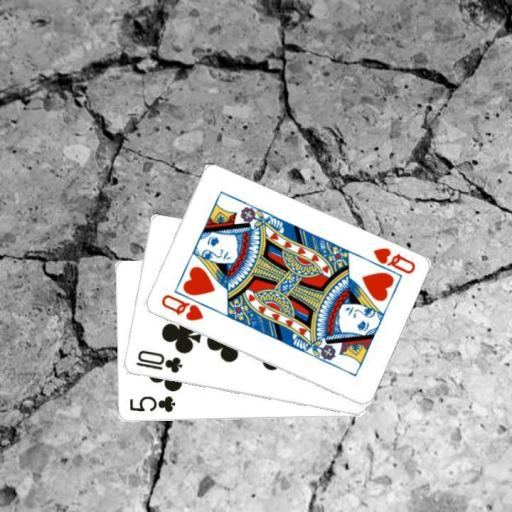card-corner: (360, 244, 417, 280), (157, 291, 205, 323), (132, 347, 184, 375), (126, 393, 176, 414)
